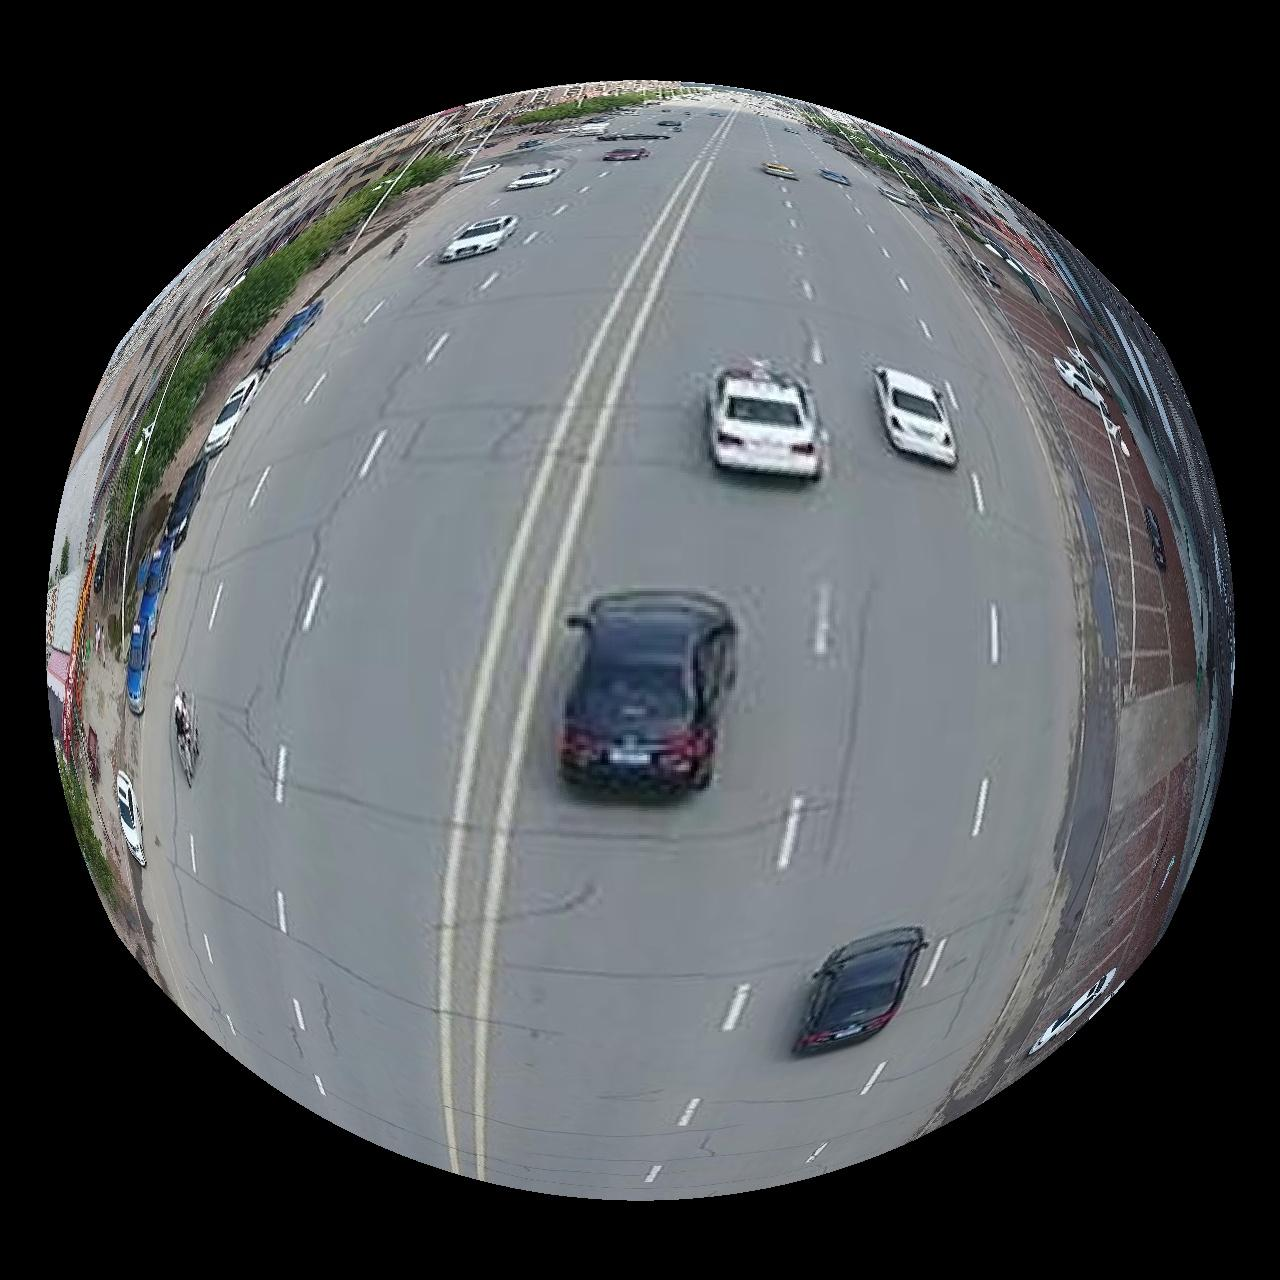cars: (559, 591, 737, 794), (795, 929, 927, 1056), (709, 358, 828, 480), (875, 366, 959, 466), (1030, 970, 1118, 1056), (438, 214, 519, 262), (1056, 357, 1110, 416), (114, 771, 145, 868), (506, 166, 562, 190), (820, 166, 853, 185), (762, 162, 799, 178)
trees: (140, 183, 377, 492)
